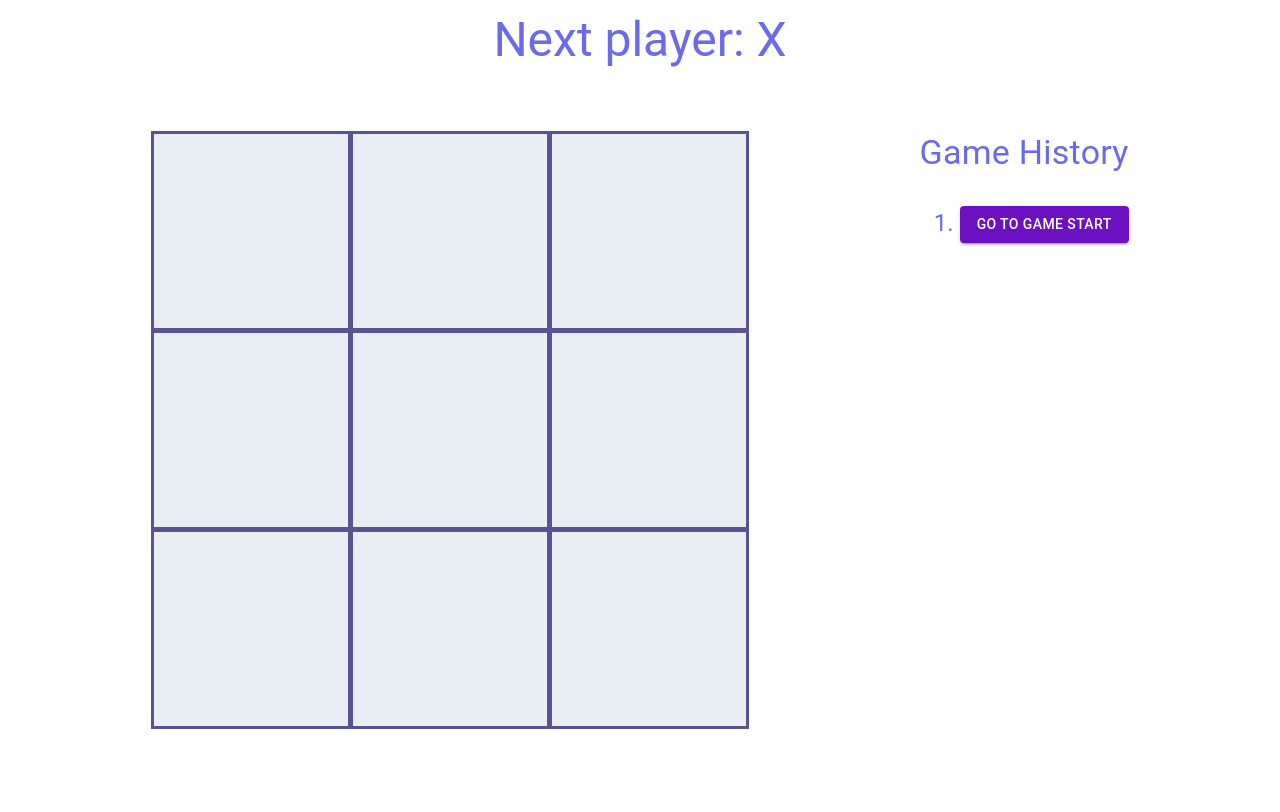
Test: next player is O
Click the button with test id "squareButton0" at [251, 231], box [151,131,351,331]
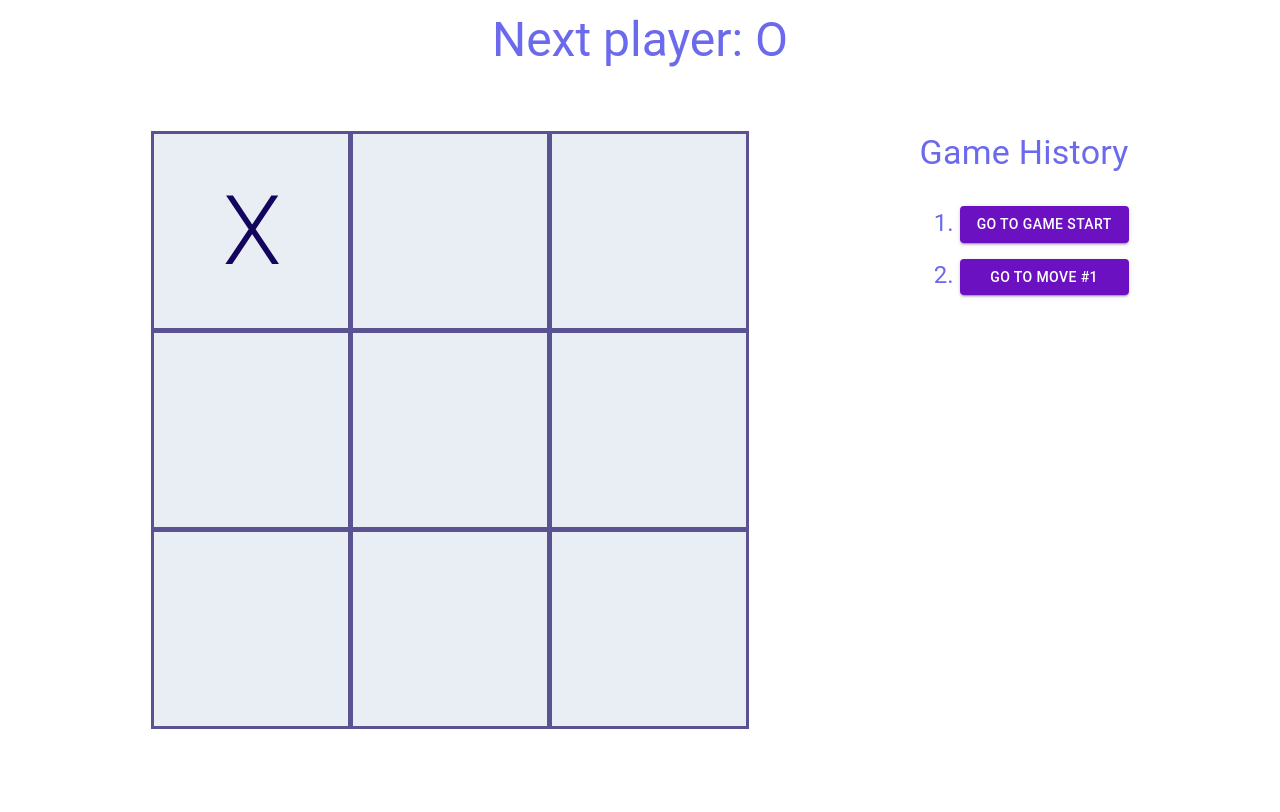
Expected: the heading "Next player: O" is shown, [492,11,788,68]
